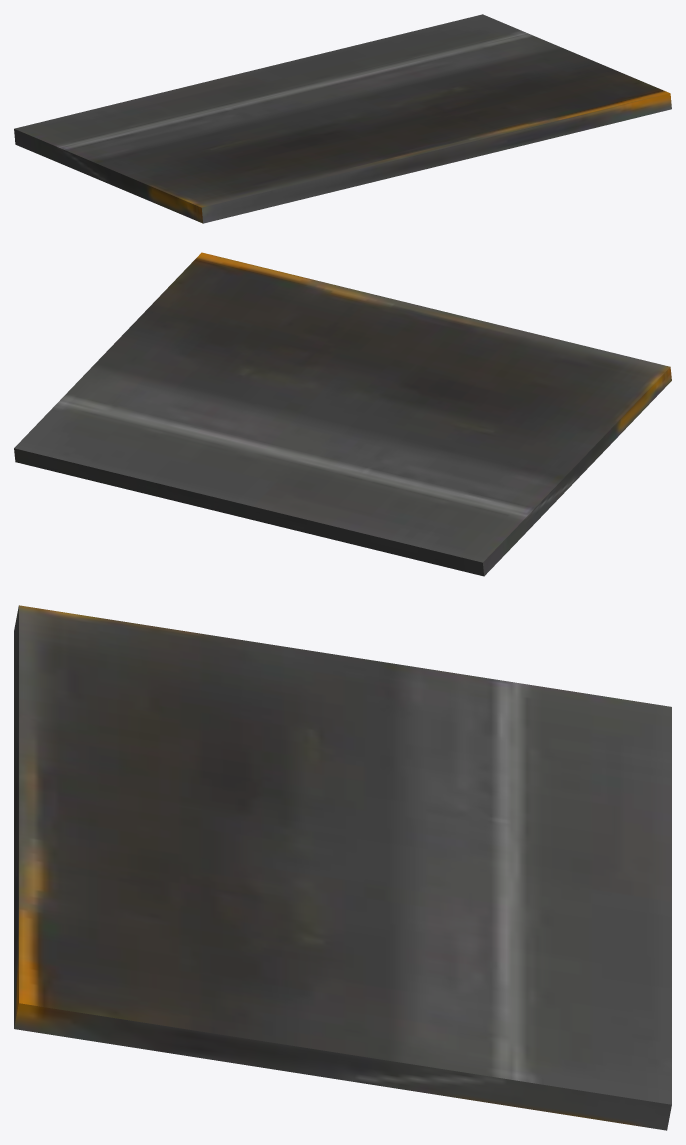
Rendered from cabinet__monitor_screen.glb.
3 renders of one model, top to bottom at view 1: azimuth 30°, elevation 25°; view 2: azimuth 150°, elevation 25°; view 3: azimuth 270°, elevation 25°, orthographic. The views are drawn at different scales.
Visible parts, largest first — view 1: geometry_0; view 2: geometry_0; view 3: geometry_0.
Boxes of the visible parts, <box> form: geometry_0: <box>14,14,671,223</box>; geometry_0: <box>14,252,671,576</box>; geometry_0: <box>14,605,671,1130</box>.
Size of the model in its own units: 0.52 by 0.0777 by 0.3634.
Materials: 1 (1 with a texture image).
